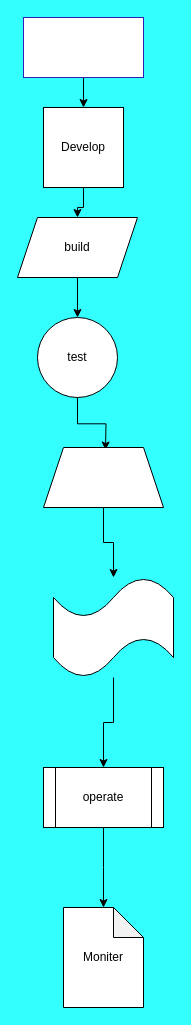
Image size: 191x1025. Some labels were removed from this diagram. Here are the shapes that lost their labels. From the top down, the centre of each, then its label:
[83,47]: plan
[103,477]: Release
[113,627]: Deploye
